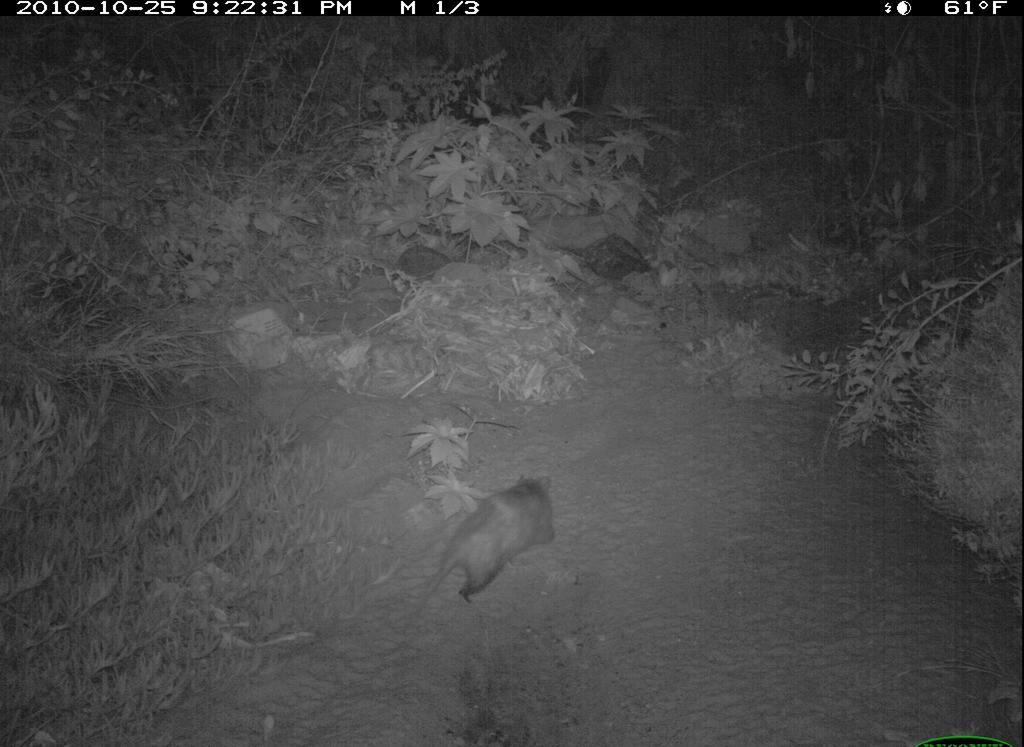opossum: (414, 475, 574, 611)
